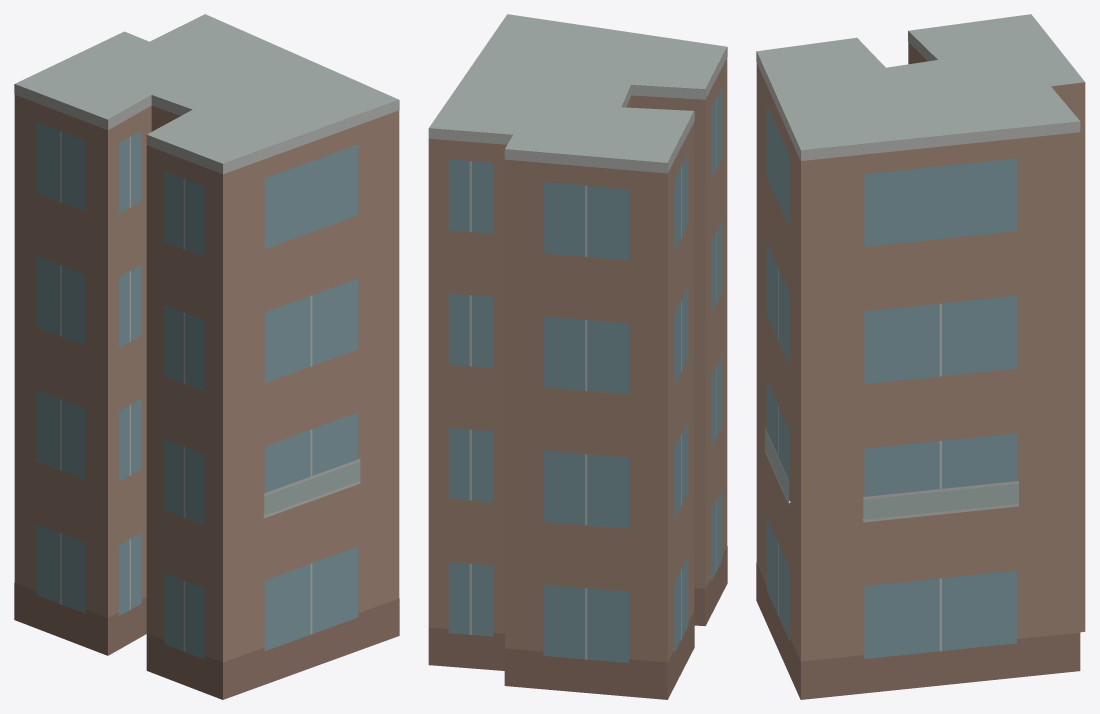
The model's file is survey-upis-33037829.glb.
3 renders of one model, left to right at view 1: azimuth 30°, elevation 25°; view 2: azimuth 150°, elevation 25°; view 3: azimuth 270°, elevation 25°, orthographic. The views are drawn at different scales.
Visible parts, largest first — view 1: survey-upis-33037829.tmp; view 2: survey-upis-33037829.tmp; view 3: survey-upis-33037829.tmp.
Part boxes in pixels (x1,y1,x2,y2): survey-upis-33037829.tmp: (14, 14, 399, 699); survey-upis-33037829.tmp: (428, 14, 727, 699); survey-upis-33037829.tmp: (756, 14, 1085, 699).
Bounding box in the file's own units: 6.6 × 12.4 × 6.73.
